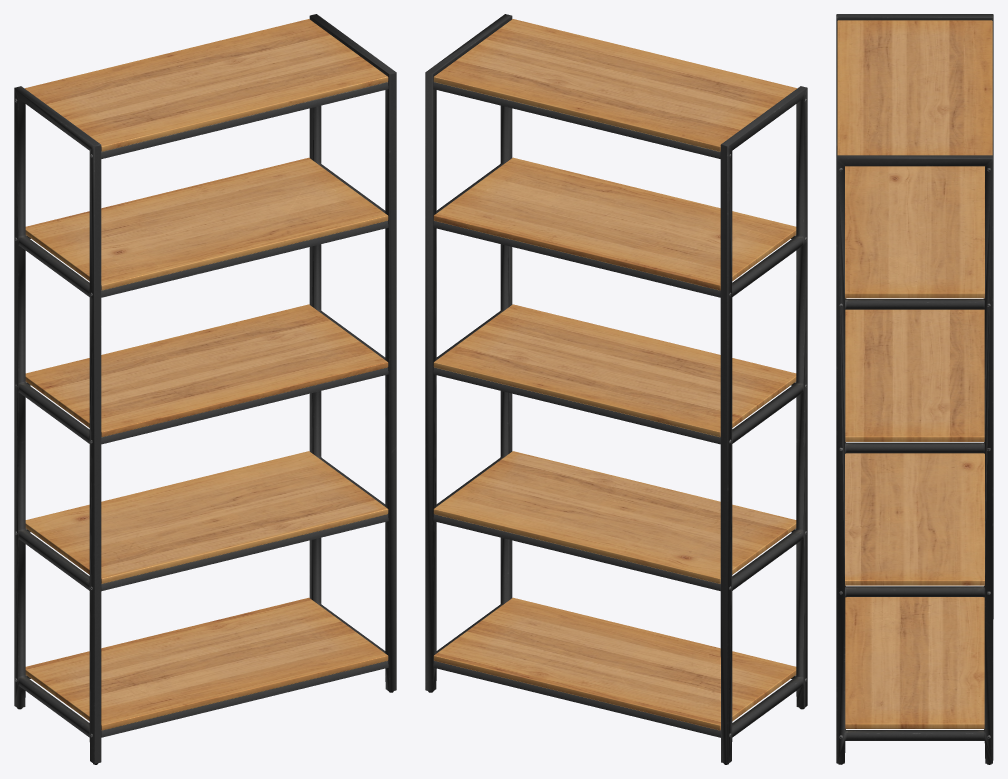
File: steel_frame_shelves_01.glb
3 renders of one model, left to right at view 1: azimuth 30°, elevation 25°; view 2: azimuth 150°, elevation 25°; view 3: azimuth 270°, elevation 25°, orthographic. The views are drawn at different scales.
Visible parts, largest first — view 1: steel_frame_shelves_01; view 2: steel_frame_shelves_01; view 3: steel_frame_shelves_01.
Boxes of the visible parts, bbox=[...] form: steel_frame_shelves_01: bbox=[14, 14, 396, 764]; steel_frame_shelves_01: bbox=[425, 14, 807, 764]; steel_frame_shelves_01: bbox=[836, 14, 993, 764].
Bounding box in the file's own units: 10.97 × 21.41 × 5.02.
Materials: 1 (1 with a texture image).
